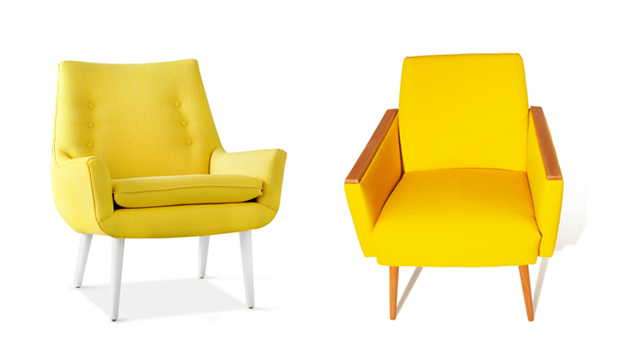chairs: (41, 55, 289, 322), (344, 54, 568, 325)
